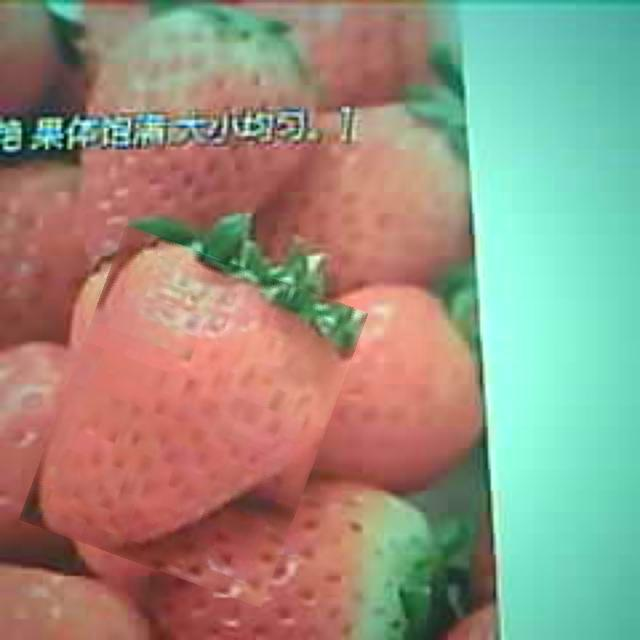strawberry: (42, 243, 346, 592)
